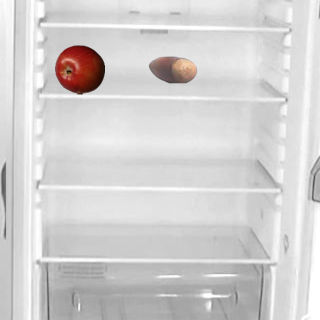Apple Braeburn: (54, 44, 104, 94)
Hazelnut: (147, 44, 197, 94)
